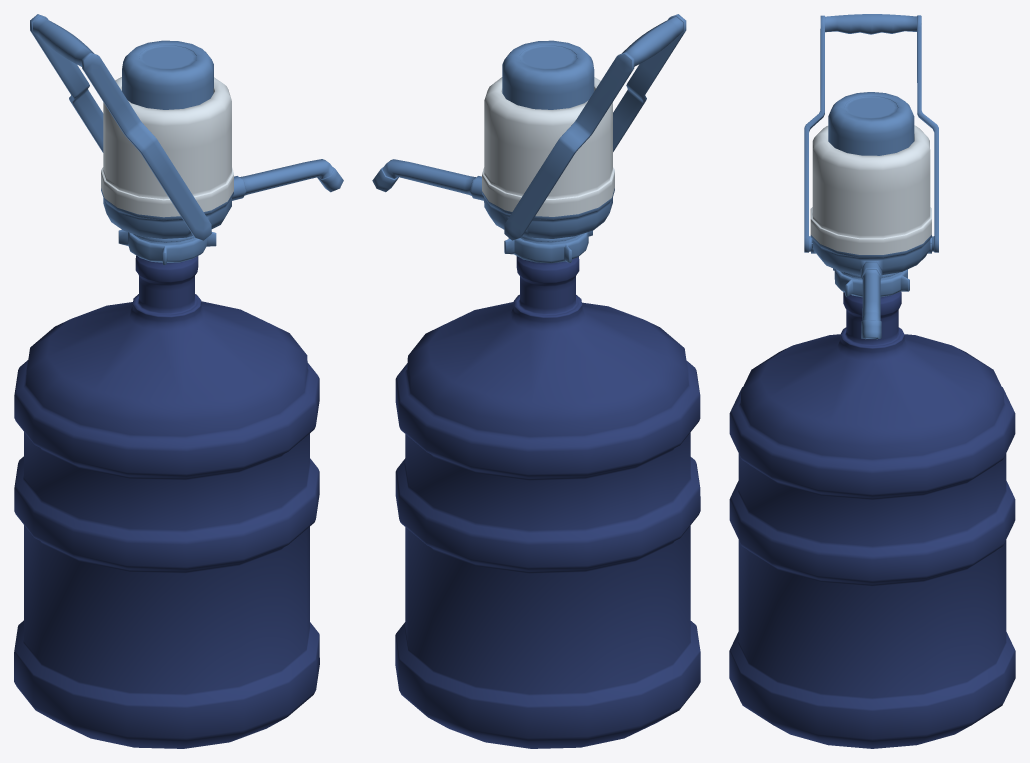
The model's file is WaterPump_low.FBX.
3 views of the same model, side by side, from view 1: azimuth 30°, elevation 25°; view 2: azimuth 150°, elevation 25°; view 3: azimuth 270°, elevation 25° (orthographic). The views are drawn at different scales.
Visible parts, largest first — view 1: water_pump_bottle, water_pump_part1, water_pump_handle, water_pump_part2; view 2: water_pump_bottle, water_pump_part1, water_pump_handle, water_pump_part2; view 3: water_pump_bottle, water_pump_part1, water_pump_part2, water_pump_handle.
Boxes of the visible parts, bbox=[...] form: water_pump_bottle: bbox=[14, 255, 319, 748]; water_pump_part1: bbox=[101, 77, 343, 265]; water_pump_handle: bbox=[30, 14, 211, 240]; water_pump_part2: bbox=[122, 40, 213, 109]; water_pump_bottle: bbox=[395, 256, 700, 748]; water_pump_part1: bbox=[372, 77, 614, 263]; water_pump_handle: bbox=[504, 14, 686, 240]; water_pump_part2: bbox=[502, 40, 594, 109]; water_pump_bottle: bbox=[729, 292, 1015, 748]; water_pump_part1: bbox=[810, 125, 931, 339]; water_pump_part2: bbox=[828, 92, 914, 155]; water_pump_handle: bbox=[804, 14, 938, 252].
Size of the model in its own units: 13.03 by 27.98 by 11.34.
